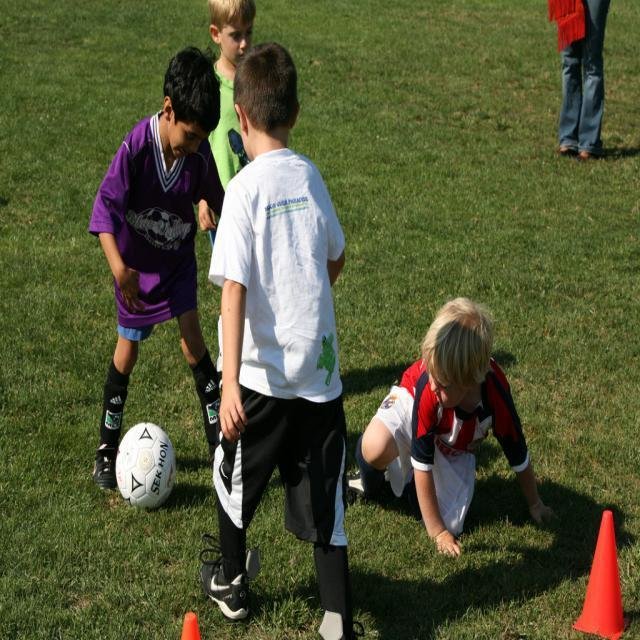football: (89, 414, 199, 526)
